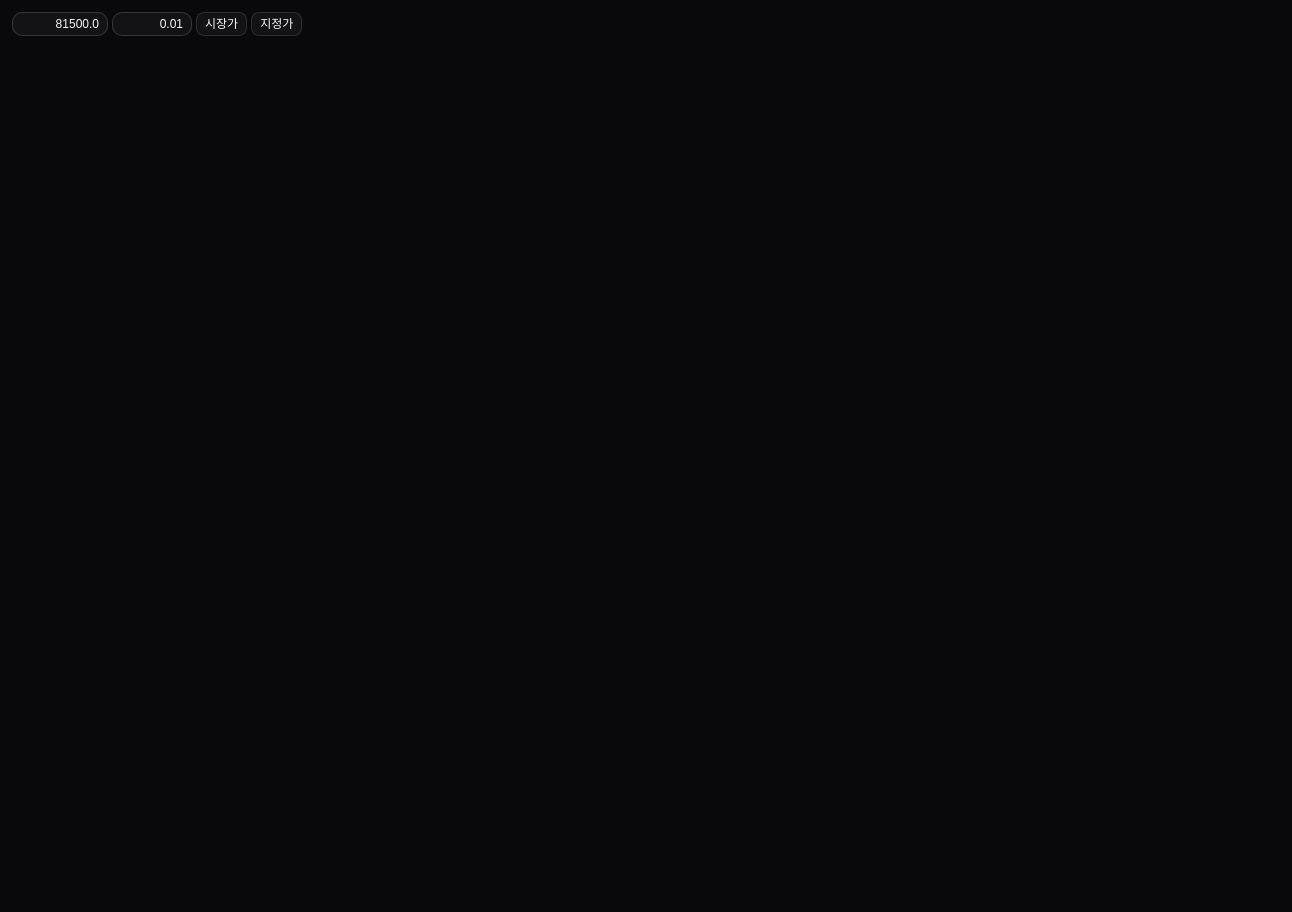
ClosePositionControls › 시장가로 닫으면 반대 방향 reduceOnly 시장가를 보내고 정리 결과를 알린다
Click the button with aria-label "시장가로 닫기" at [222, 24], box [196,12,247,36]
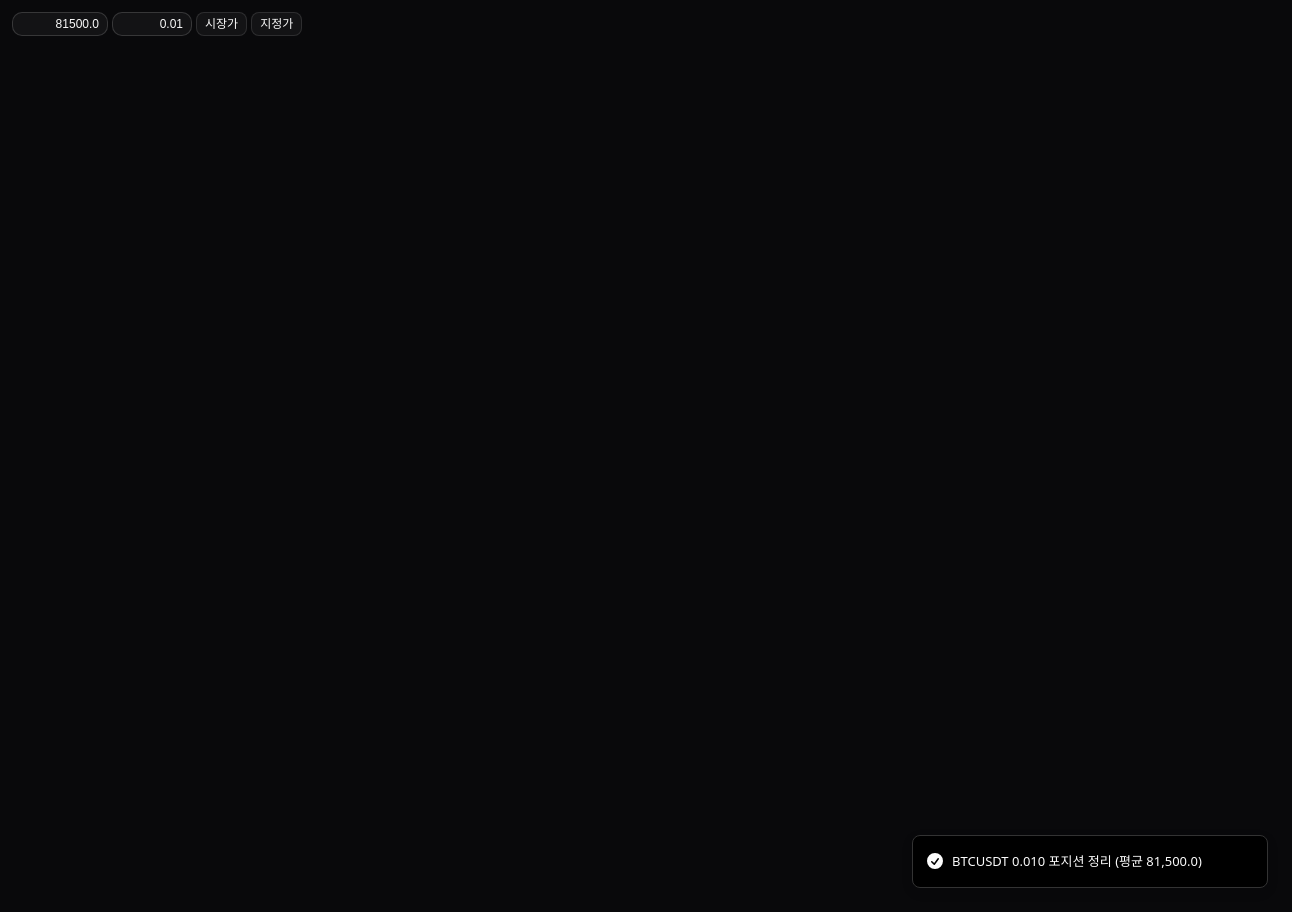
Expected: the text "BTCUSDT 0.010 포지션 정리 (평균 81,500.0)" is shown, [952,852,1202,871]
